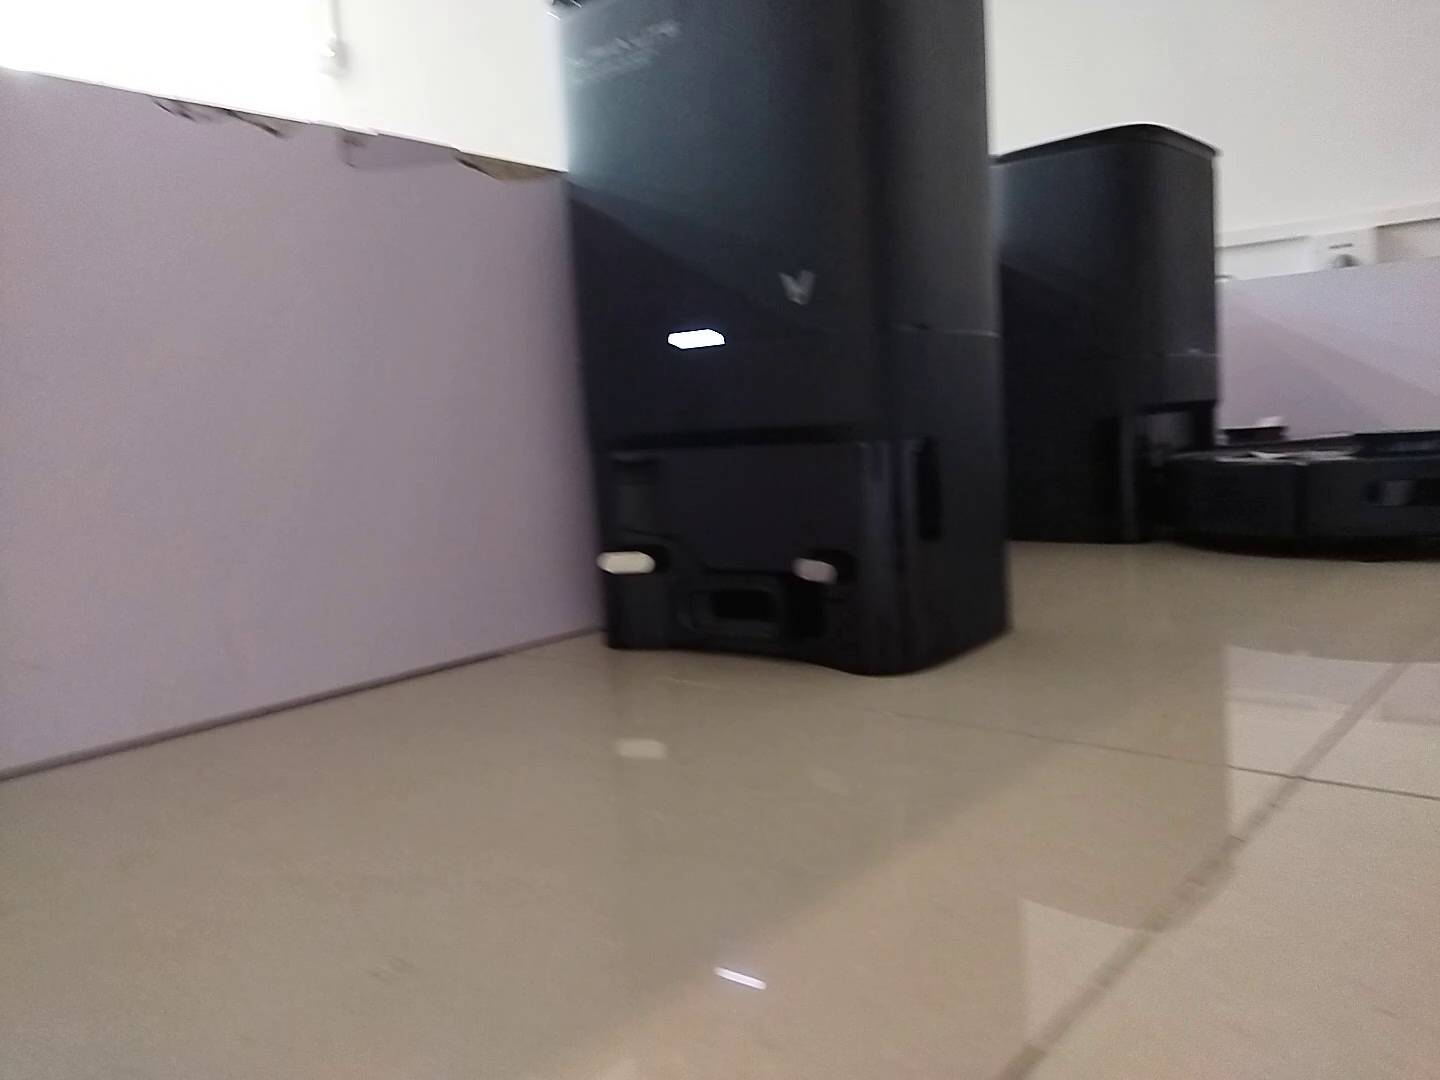dust collecting barrel: (569, 1, 1008, 677), (988, 125, 1223, 554)
